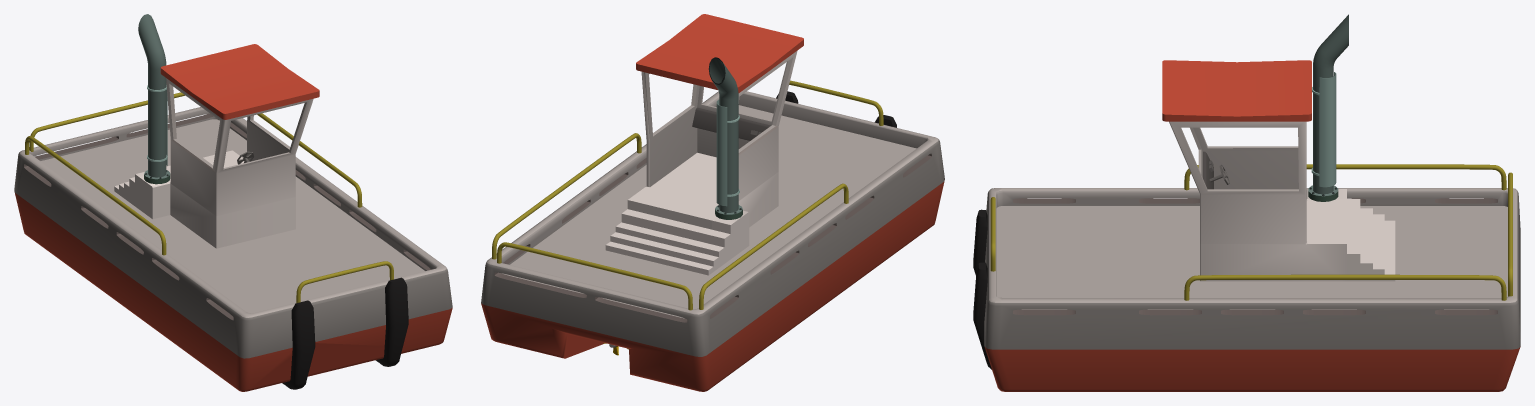
The model's file is TugBoat.gltf.
The picture shows the model from 3 angles, left to right: view 1: azimuth 30°, elevation 25°; view 2: azimuth 150°, elevation 25°; view 3: azimuth 270°, elevation 25°; orthographic projection. The views are drawn at different scales.
Visible parts, largest first — view 1: Body, Cabin, Exhuast, Railing, RailingBack, RailingBack.001; view 2: Body, Cabin, Exhuast, Railing, RailingBack, CabinConsole, RailingBack.001; view 3: Body, Cabin, Exhuast, Railing, RailingBack.
Boxes of the visible parts, x1,y1,x2,y2 form: Body: (14, 107, 452, 391); Cabin: (114, 44, 319, 248); Exhuast: (138, 14, 170, 184); Railing: (25, 113, 362, 255); RailingBack: (29, 92, 184, 151); RailingBack.001: (296, 261, 393, 303); Body: (481, 91, 944, 391); Cabin: (605, 14, 803, 275); Exhuast: (708, 57, 742, 219); Railing: (492, 133, 848, 309); RailingBack: (497, 242, 692, 310); CabinConsole: (692, 107, 770, 140); RailingBack.001: (789, 80, 883, 125); Body: (973, 188, 1520, 391); Cabin: (1162, 60, 1395, 281); Exhuast: (1308, 14, 1348, 201); Railing: (1184, 164, 1506, 300); RailingBack: (1508, 172, 1512, 296).
Bounding box in the file's own units: 5.33 × 6.32 × 10.28.
Materials: 1 (1 with a texture image).
